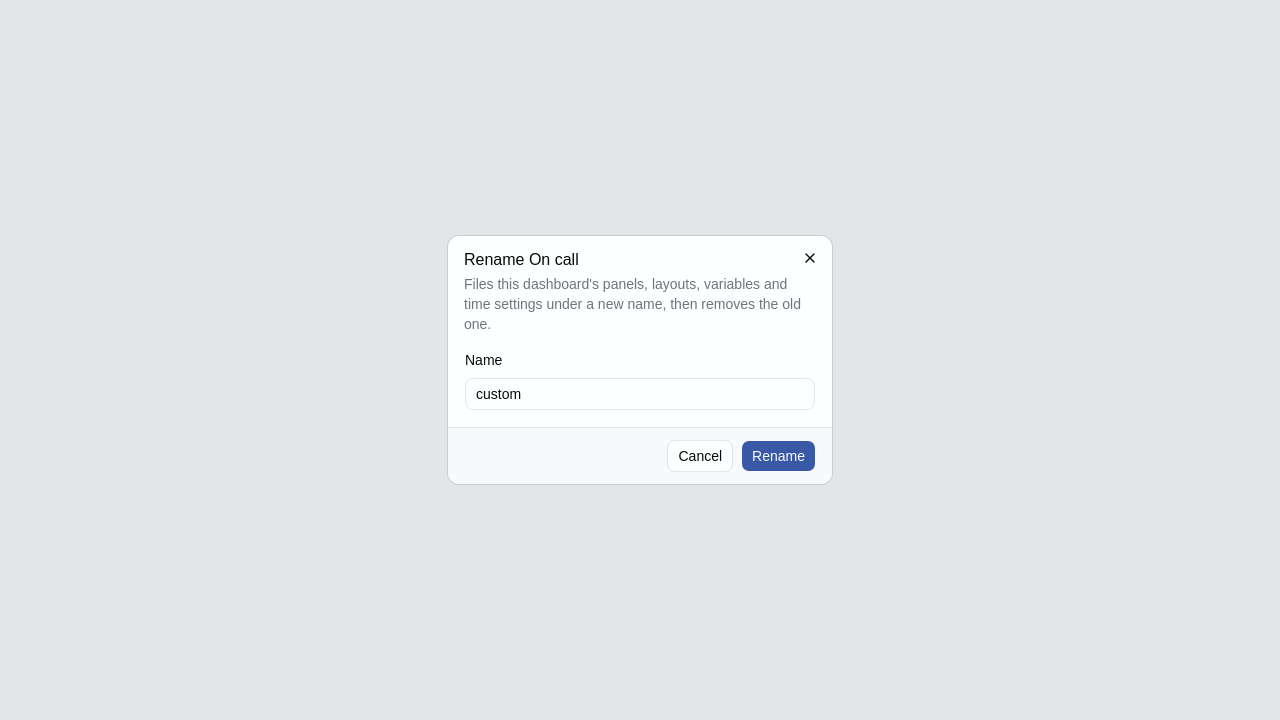
Test: renaming › puts a name already taken on the name field, and never deletes the old dashboard
Replace the text in the field labelled "Name" with "on-call": x=640, y=394 [465,378,815,410]
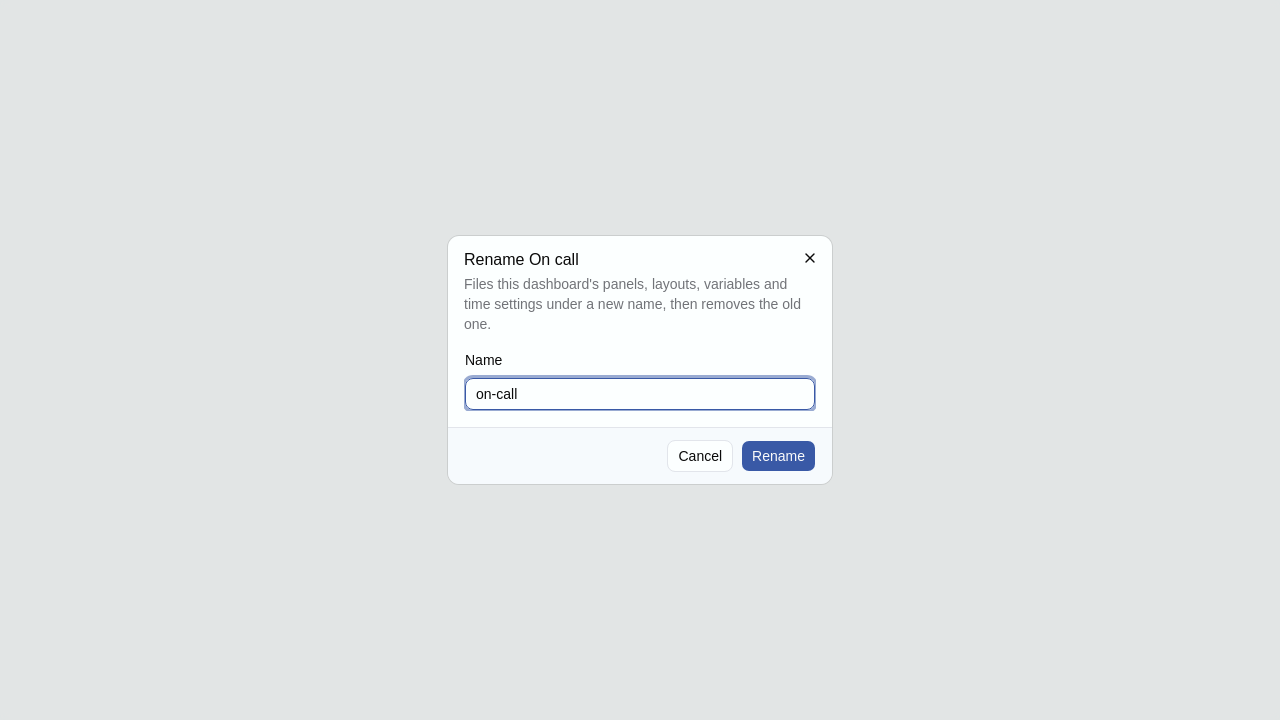
Click the button "Rename": x=779, y=456 [741,440,816,472]
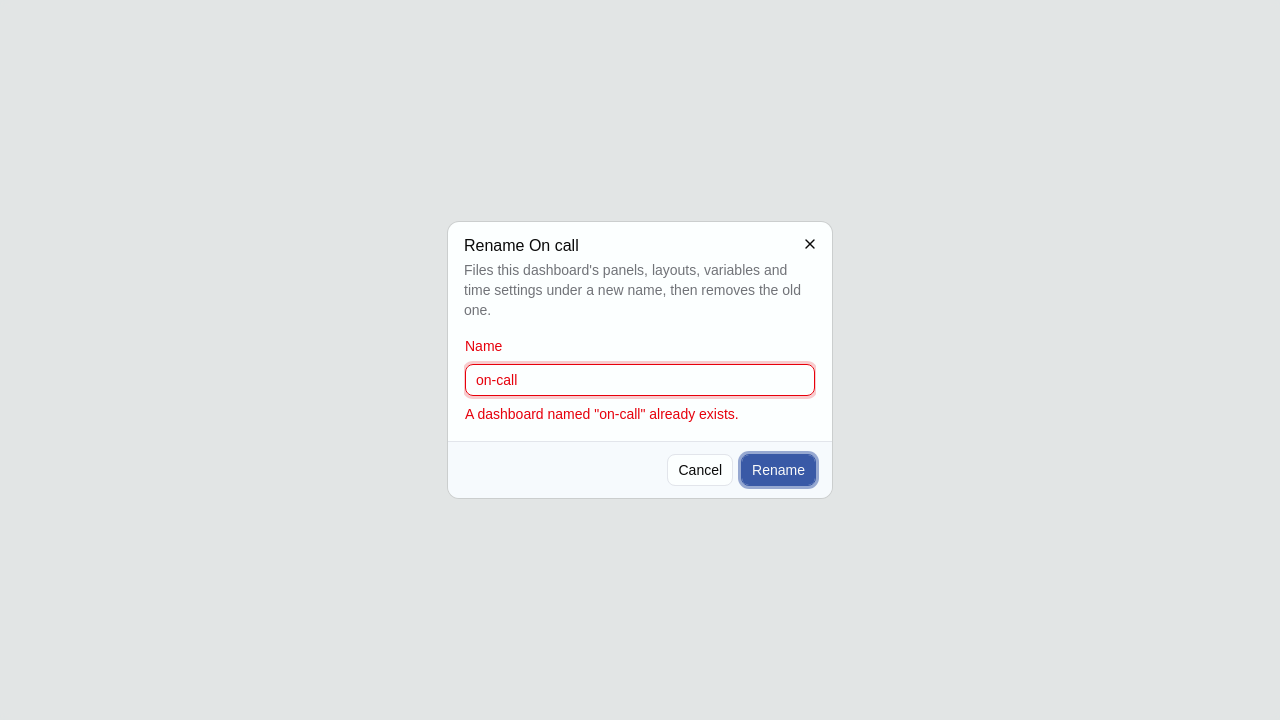
Expected: the text "A dashboard named \"on-call\" already exists." is shown, [465,406,739,422]
